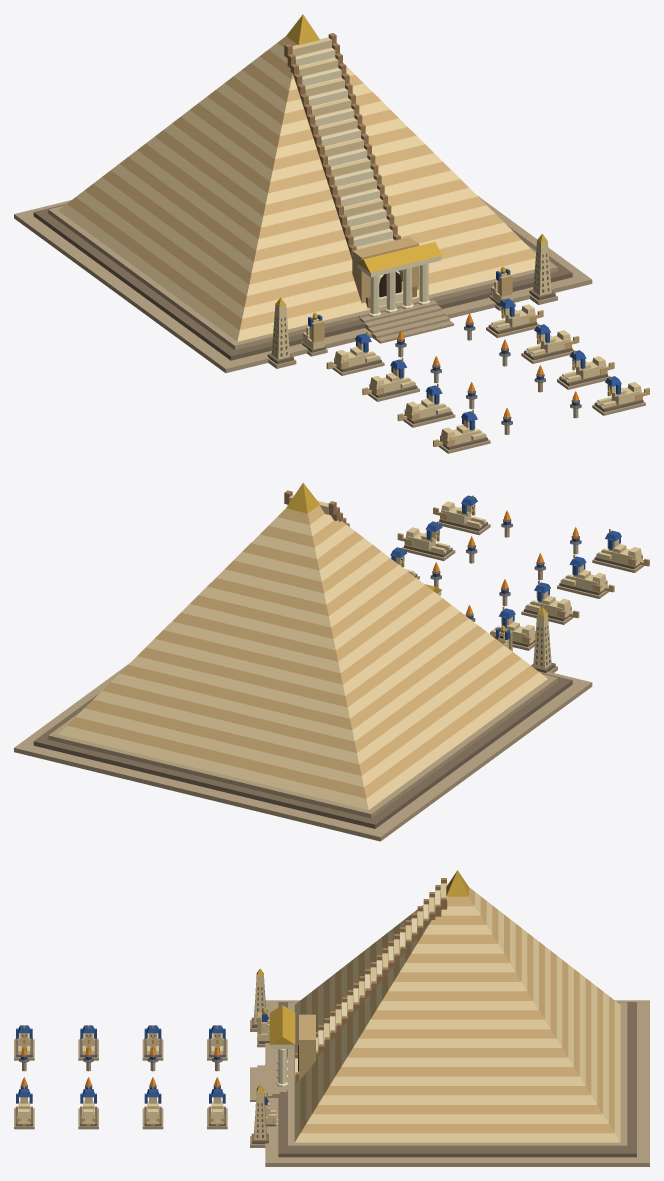
The picture shows the model from 3 angles, top to bottom: view 1: azimuth 30°, elevation 25°; view 2: azimuth 150°, elevation 25°; view 3: azimuth 270°, elevation 25°; orthographic projection. The views are drawn at different scales.
Visible parts, largest first — view 1: pyramid; view 2: pyramid; view 3: pyramid.
Part boxes in pixels (left/top/right/bottom): pyramid: left=14, top=14, right=649, bottom=453; pyramid: left=14, top=482, right=649, bottom=841; pyramid: left=14, top=870, right=649, bottom=1166.
Size of the model in its own units: 44.84 by 27.7 by 74.12.
Materials: 1 (1 with a texture image).
